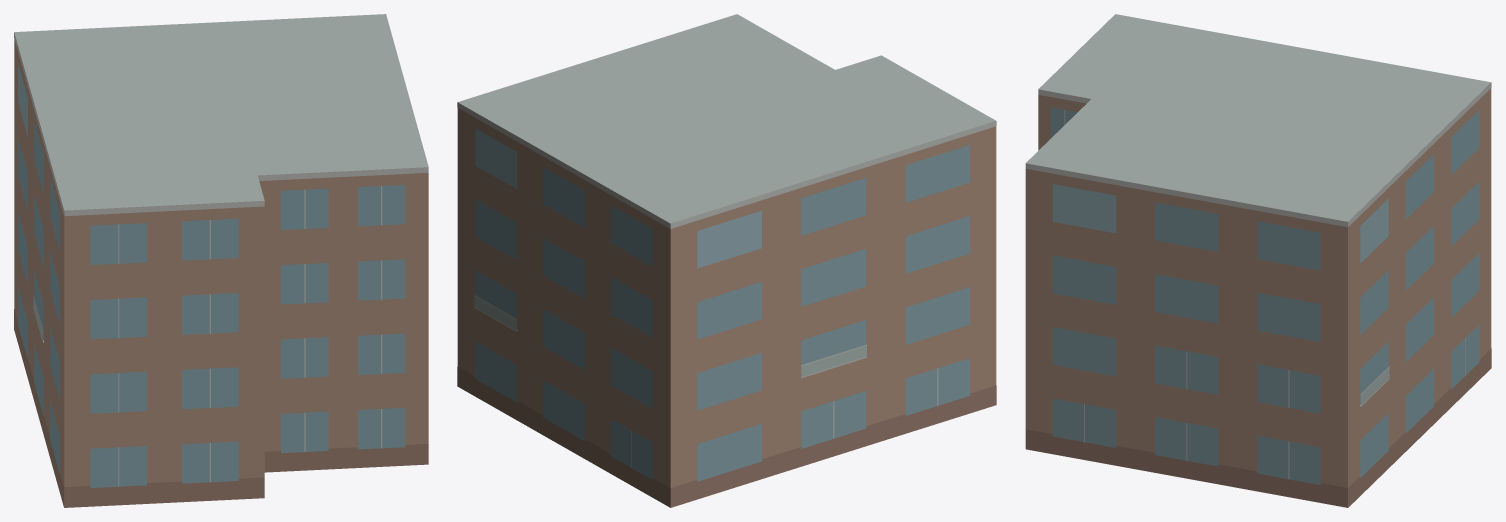
Rendered from survey-upis-32806018.glb.
3 views of the same model, side by side, from view 1: azimuth 30°, elevation 25°; view 2: azimuth 150°, elevation 25°; view 3: azimuth 270°, elevation 25° (orthographic). The views are drawn at different scales.
Visible parts, largest first — view 1: survey-upis-32806018.tmp; view 2: survey-upis-32806018.tmp; view 3: survey-upis-32806018.tmp.
Part boxes in pixels (box(x1,y1,x2,y2)): survey-upis-32806018.tmp: box(14, 14, 428, 507); survey-upis-32806018.tmp: box(457, 14, 996, 507); survey-upis-32806018.tmp: box(1025, 14, 1491, 507).
Size of the model in its own units: 20.12 by 12.9 by 19.05.
